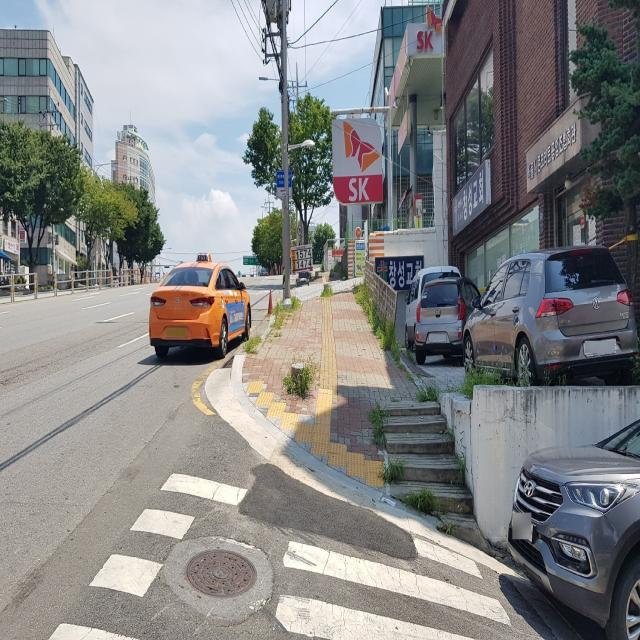횡단보도: (46, 470, 514, 640)
